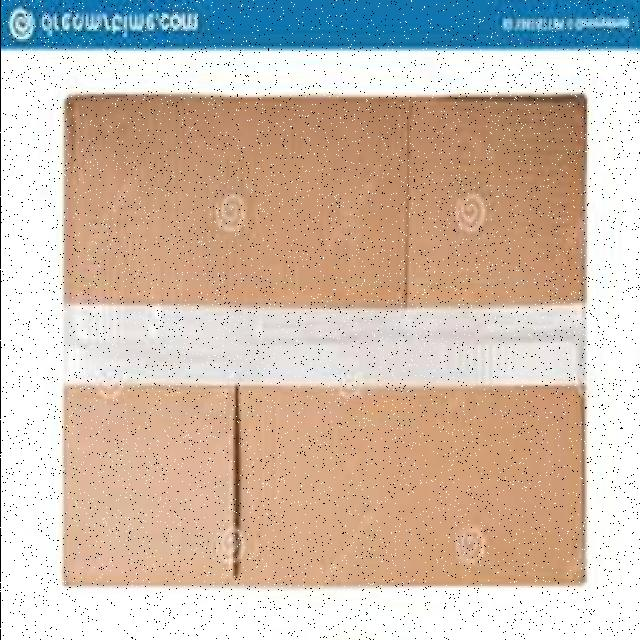normal: (55, 88, 594, 598)
